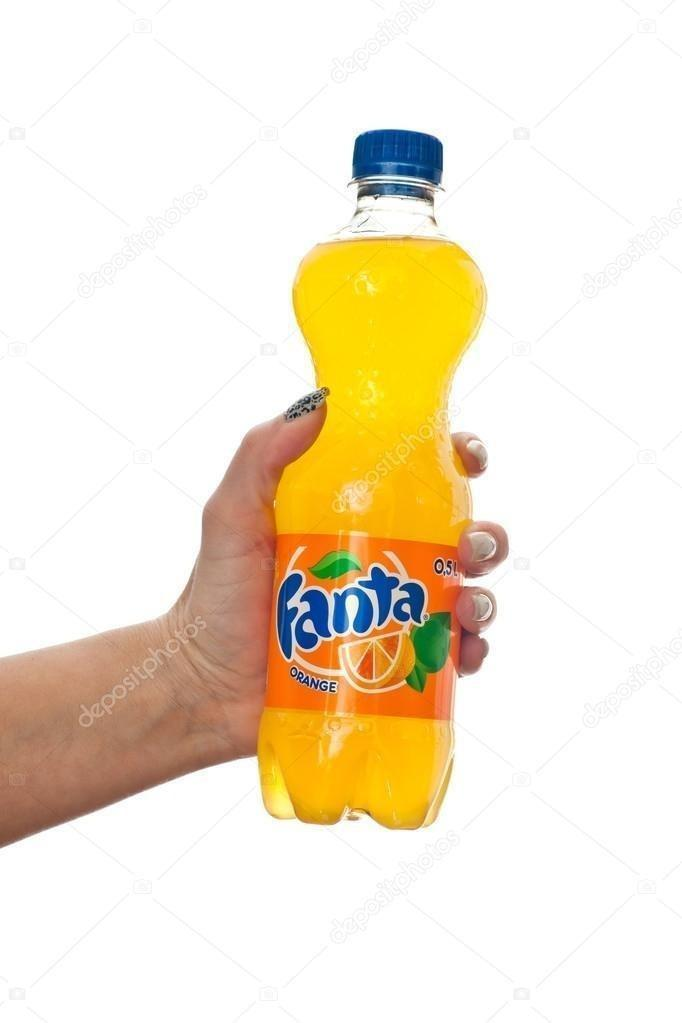bottle-plastic: (253, 116, 491, 853)
